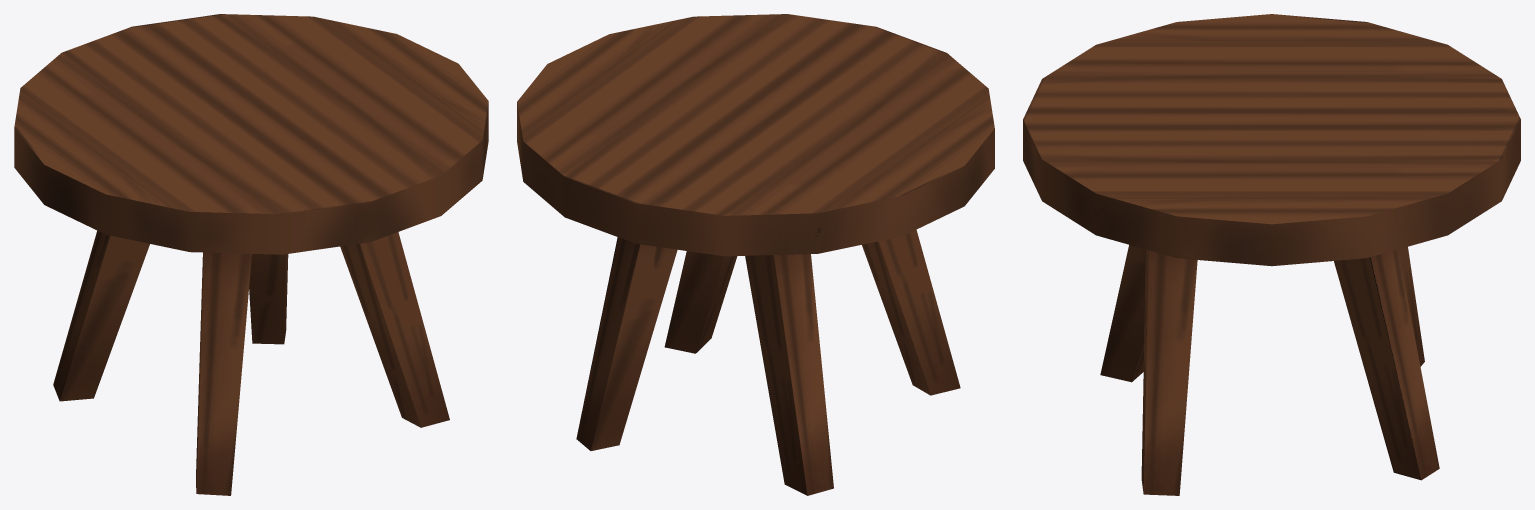
File: Chair 2.glb
3 views of the same model, side by side, from view 1: azimuth 30°, elevation 25°; view 2: azimuth 150°, elevation 25°; view 3: azimuth 270°, elevation 25° (orthographic). The views are drawn at different scales.
Visible parts, largest first — view 1: Cylinder, Cube, Cube.001, Cube.002, Cube.003; view 2: Cylinder, Cube.002, Cube.003, Cube, Cube.001; view 3: Cylinder, Cube.003, Cube.001, Cube, Cube.002.
Part boxes in pixels (x1=…): Cylinder: x1=14, y1=14, x2=488, y2=254; Cube: x1=196, y1=252, x2=251, y2=495; Cube.001: x1=340, y1=232, x2=449, y2=427; Cube.002: x1=53, y1=230, x2=149, y2=401; Cube.003: x1=249, y1=254, x2=288, y2=344; Cylinder: x1=517, y1=14, x2=994, y2=256; Cube.002: x1=745, y1=254, x2=833, y2=495; Cube.003: x1=576, y1=237, x2=677, y2=450; Cube: x1=862, y1=229, x2=960, y2=395; Cube.001: x1=664, y1=251, x2=737, y2=353; Cylinder: x1=1023, y1=14, x2=1520, y2=266; Cube.003: x1=1334, y1=249, x2=1439, y2=480; Cube.001: x1=1141, y1=249, x2=1197, y2=495; Cube: x1=1100, y1=245, x2=1145, y2=382; Cube.002: x1=1398, y1=247, x2=1424, y2=366.
Size of the model in its own units: 0.4037 by 0.2758 by 0.4037.
Materials: 2 (2 with a texture image).
